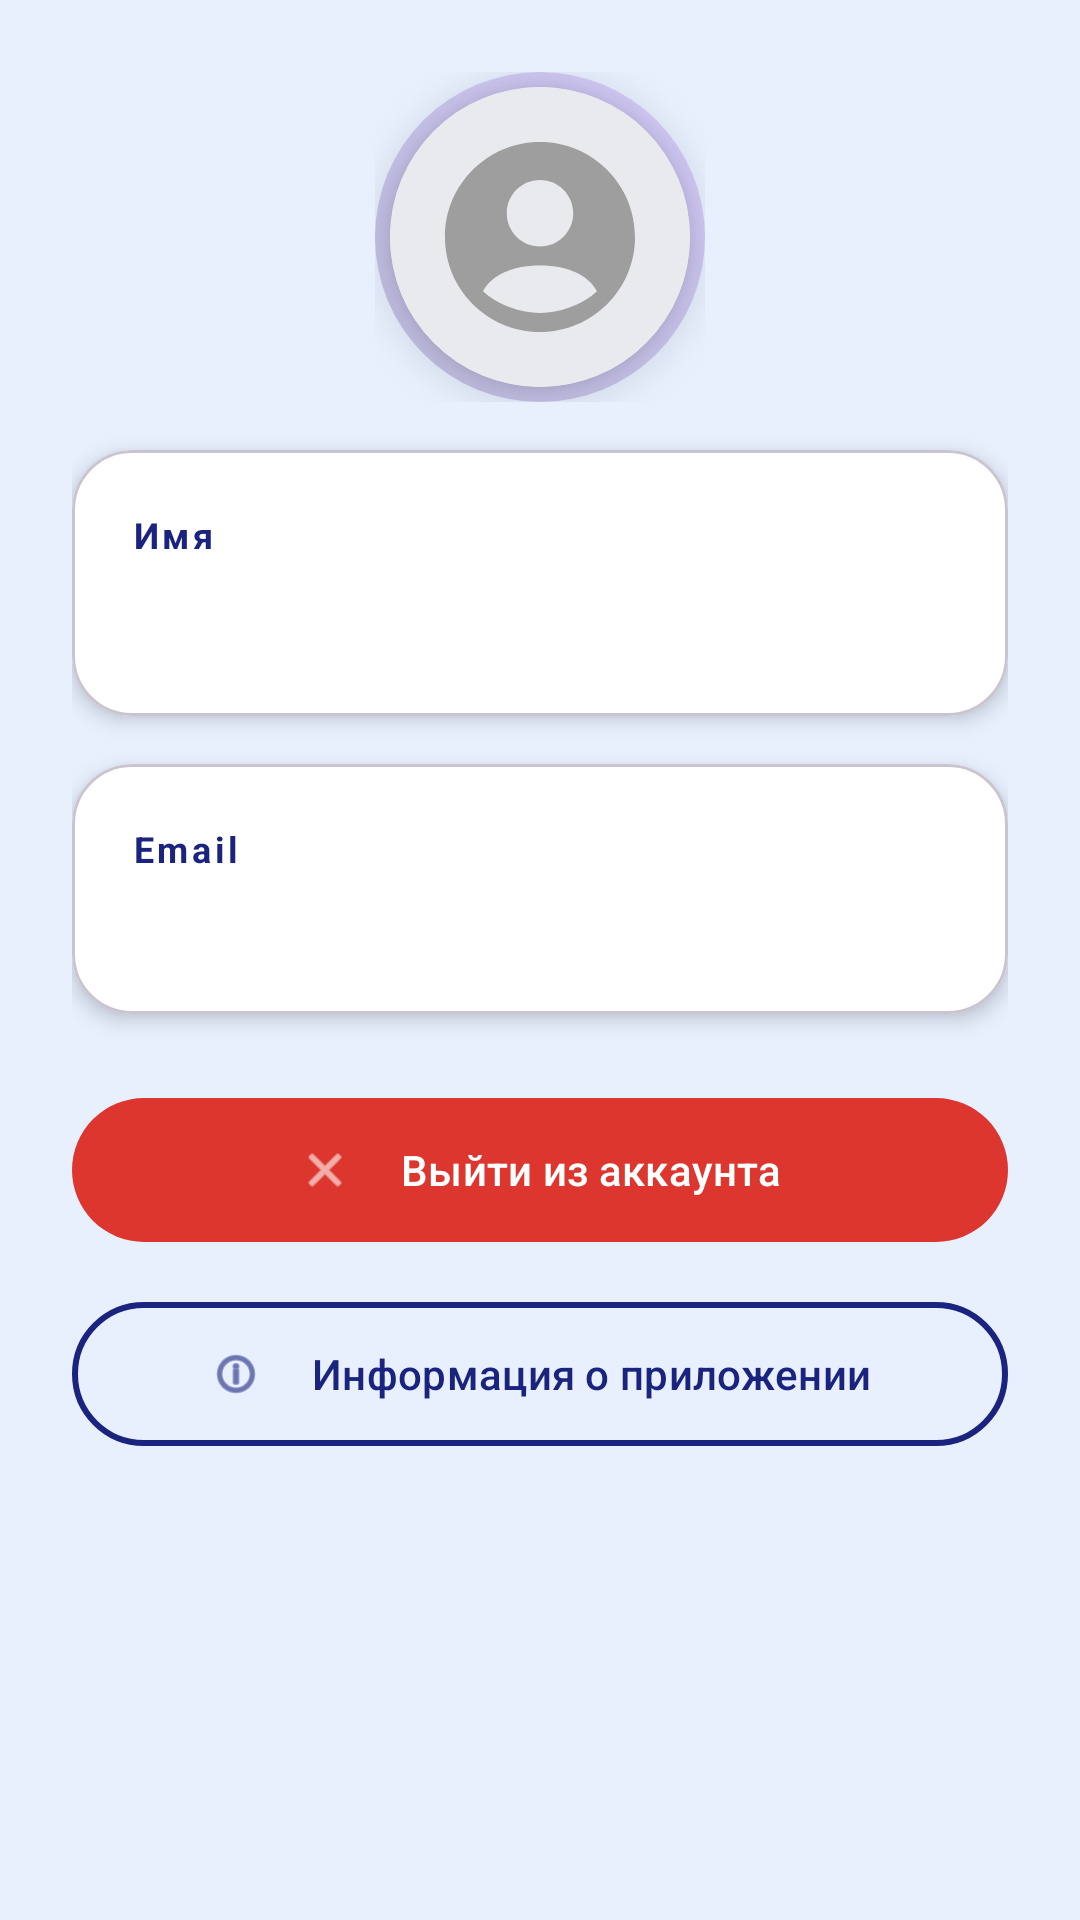

Icons on this 1080x1920 Android screen, each with the point to tap as (x,y):
Аватар: (540,237)
